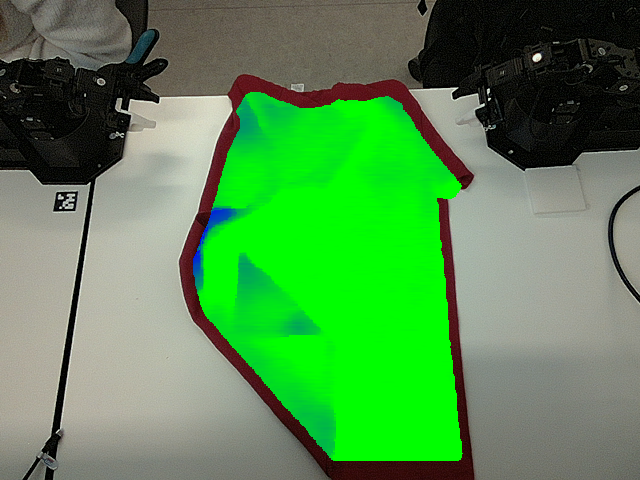V: (229, 302, 281, 341)
